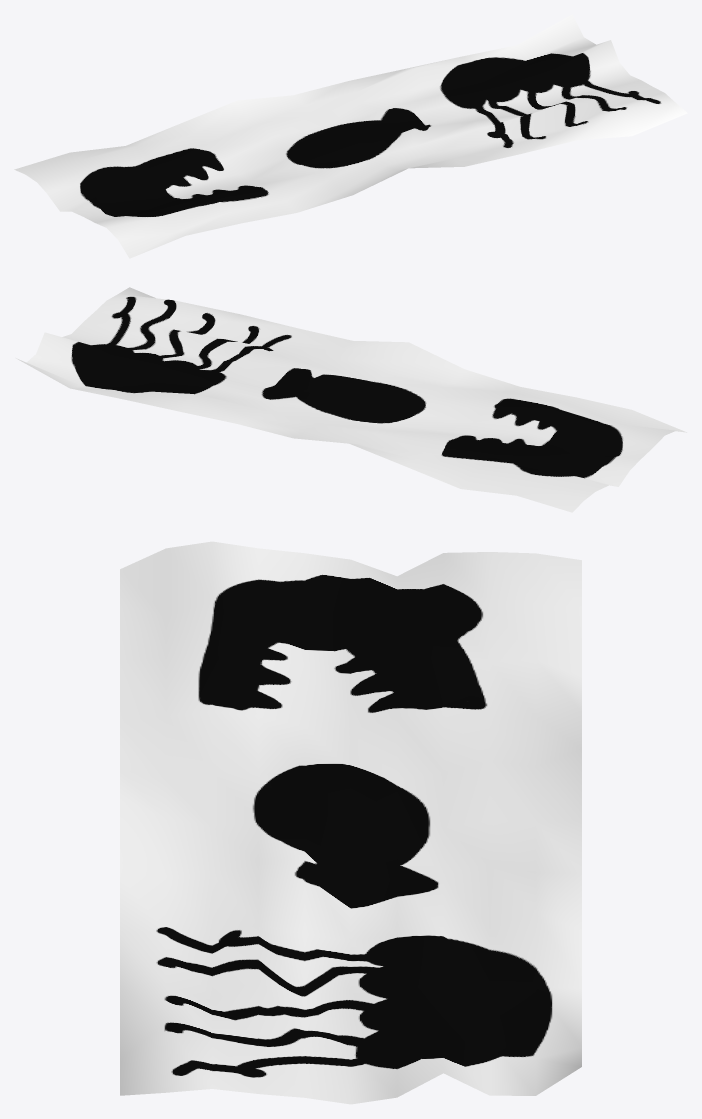
The model's file is Pictograph.fbx.
3 renders of one model, top to bottom at view 1: azimuth 30°, elevation 25°; view 2: azimuth 150°, elevation 25°; view 3: azimuth 270°, elevation 25°, orthographic. The views are drawn at different scales.
Visible parts, largest first — view 1: Pictograph_Paper; view 2: Pictograph_Paper; view 3: Pictograph_Paper.
Part boxes in pixels (x1,y1,x2,y2): Pictograph_Paper: [14, 14, 687, 258]; Pictograph_Paper: [16, 287, 686, 512]; Pictograph_Paper: [120, 541, 581, 1104].
Size of the model in its own units: 65.38 by 3.02 by 23.18.
1 material, 1 textured.
